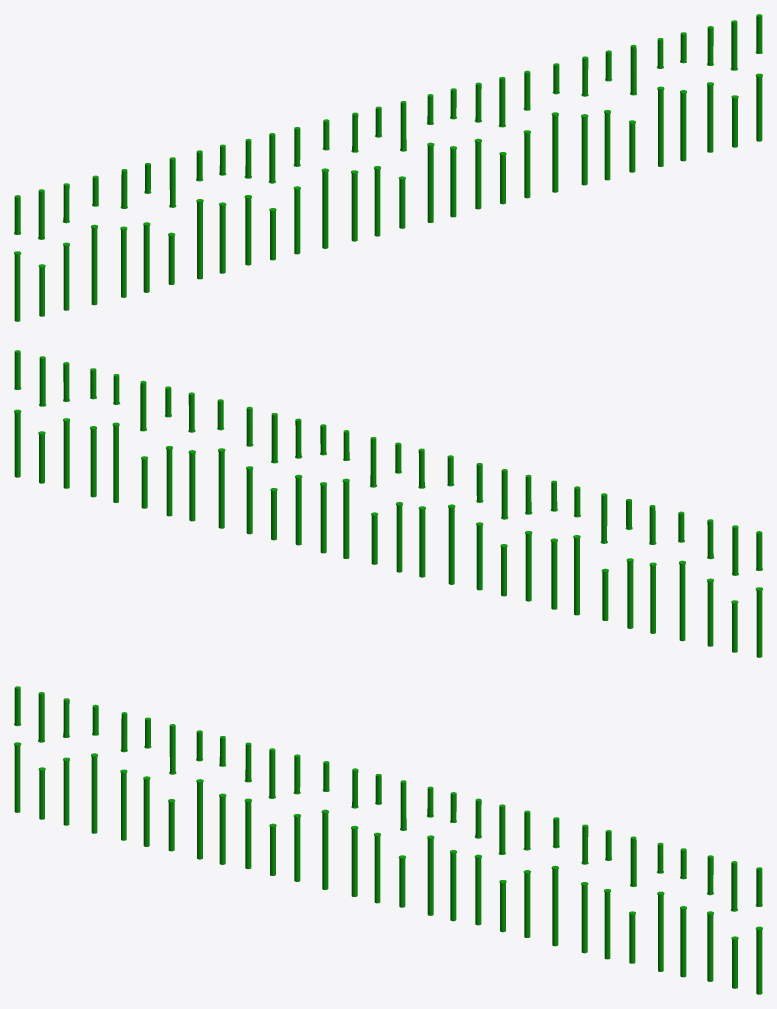
File: towers.obj
3 renders of one model, top to bottom at view 1: azimuth 30°, elevation 25°; view 2: azimuth 150°, elevation 25°; view 3: azimuth 330°, elevation 25°, orthographic.
Parts seen in each view (by area): view 1: Cylinder.022, Cylinder.030, Cylinder.043, Cylinder.007; view 2: Cylinder.022, Cylinder.030, Cylinder.043, Cylinder.007; view 3: Cylinder.022, Cylinder.030, Cylinder.043, Cylinder.007.
Part boxes in pixels (<box>): Cylinder.022: <box>427,142,434,222</box>; Cylinder.030: <box>321,168,328,248</box>; Cylinder.043: <box>551,112,558,192</box>; Cylinder.007: <box>91,224,97,305</box>; Cylinder.022: <box>342,478,349,558</box>; Cylinder.030: <box>448,504,455,584</box>; Cylinder.043: <box>218,448,225,528</box>; Cylinder.007: <box>679,560,685,641</box>; Cylinder.022: <box>427,835,434,915</box>; Cylinder.030: <box>321,809,328,889</box>; Cylinder.043: <box>551,865,558,946</box>; Cylinder.007: <box>91,753,97,833</box>.
Bounding box in the file's own units: 292 × 47.49 × 2.47.
